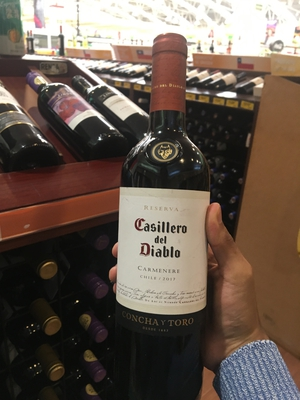casillero del diablo carmenere: (103, 27, 232, 380)
